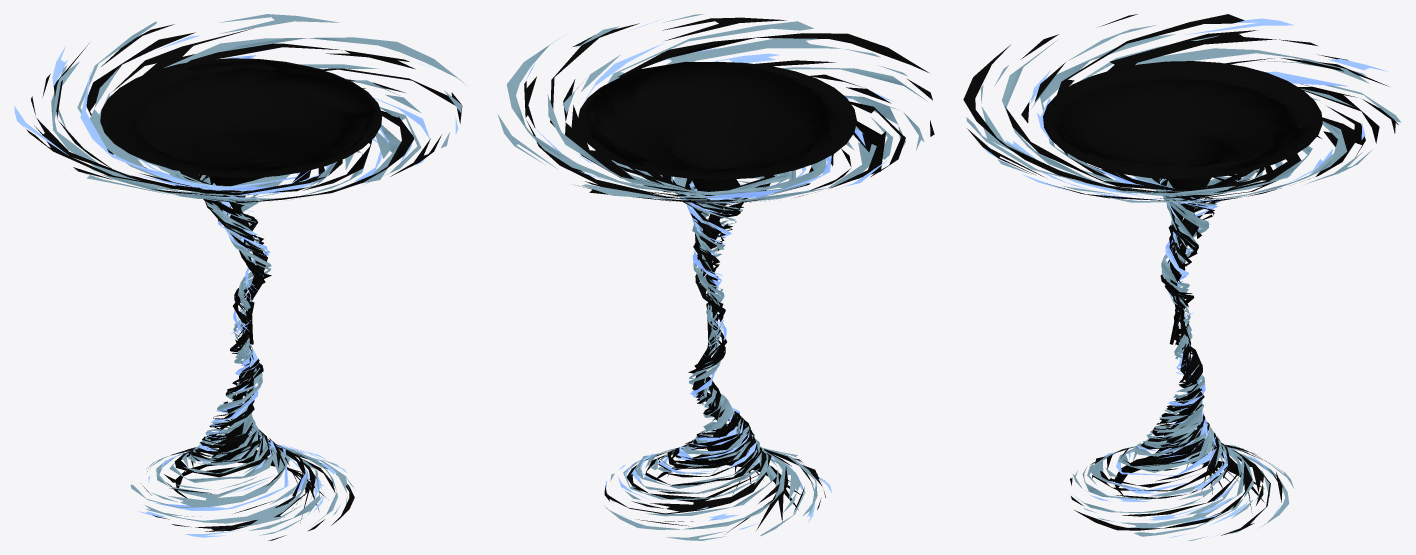
Rendered from Tonardo.glb.
3 renders of one model, left to right at view 1: azimuth 30°, elevation 25°; view 2: azimuth 150°, elevation 25°; view 3: azimuth 270°, elevation 25°, orthographic.
Parts seen in each view (by area): view 1: Tonardo_core, Tonardo_base; view 2: Tonardo_core, Tonardo_base; view 3: Tonardo_core, Tonardo_base.
Part boxes in pixels (bbox=[...]): Tonardo_core: bbox=[14, 14, 466, 344]; Tonardo_base: bbox=[130, 302, 354, 540]; Tonardo_core: bbox=[497, 14, 934, 338]; Tonardo_base: bbox=[604, 303, 832, 540]; Tonardo_core: bbox=[963, 14, 1401, 344]; Tonardo_base: bbox=[1070, 310, 1294, 540].
Bounding box in the file's own units: 26.28 × 25.78 × 26.2.
